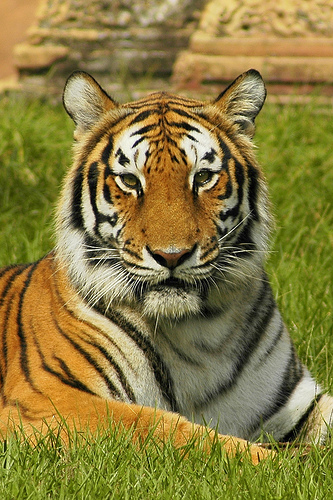Tigre: (35, 63, 301, 400)
